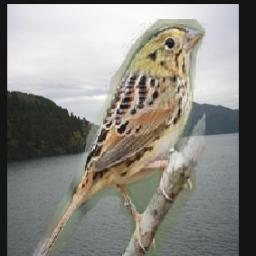Sparrow: (32, 19, 205, 256)
